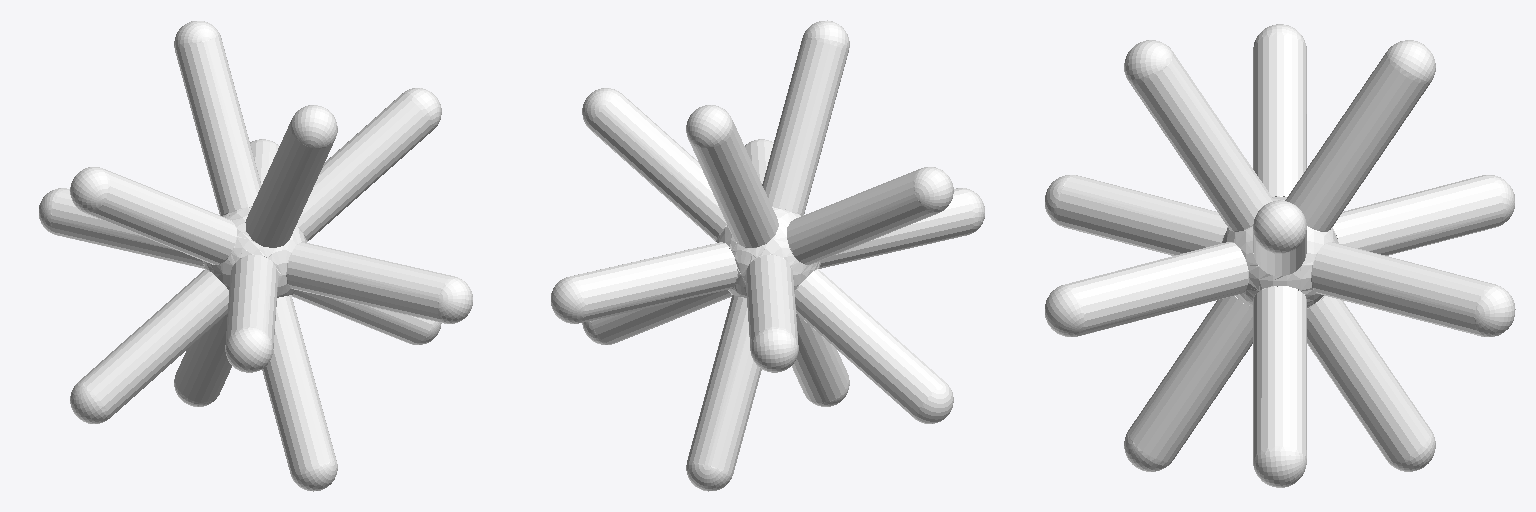
URDF robot description (xin_12zu):
<?xml version="1.0" encoding="utf-8"?>
<!-- This URDF was automatically created by SolidWorks to URDF Exporter! Originally created by [author] ([email redacted]) 
     Commit Version: 1.6.0-1-g15f4949  Build Version: 1.6.7594.29634
     For more information, please see http://wiki.ros.org/sw_urdf_exporter -->
<robot name="xin_12zu">

  <link name="base_link">
    <inertial>
      <origin
        xyz="7.9311E-06 -1.1286E-06 3.1729E-08"
        rpy="0 0 0" />
      <mass
        value="0.037895" />
      <inertia
        ixx="3.9107E-05"
        ixy="-8.067E-10"
        ixz="-3.7841E-11"
        iyy="3.91E-05"
        iyz="1.6043E-11"
        izz="3.9101E-05" />
    </inertial>
    <visual>
      <origin
        xyz="0 0 0"
        rpy="0 0 0" />
      <geometry>
        <mesh
          filename="package://xin_12zu/meshes/base_link.STL" />
      </geometry>
      <material
        name="">
        <color
          rgba="1 1 1 1" />
      </material>
    </visual>
    <collision>
      <origin
        xyz="0 0 0"
        rpy="0 0 0" />
      <geometry>
        <mesh
          filename="package://xin_12zu/meshes/base_link.STL" />
      </geometry>
    </collision>
  </link>
  <link
    name="Empty_Link1">
    <inertial>
      <origin
        xyz="-2.0629E-13 2.3413E-13 0.019791"
        rpy="0 0 0" />
      <mass
        value="0.041471" />
      <inertia
        ixx="3.1606E-05"
        ixy="3.3881E-21"
        ixz="4.9763E-21"
        iyy="3.1606E-05"
        iyz="1.0376E-20"
        izz="2.9764E-06" />
    </inertial>
    <visual>
      <origin
        xyz="0 0 0"
        rpy="0 0 0" />
      <geometry>
        <mesh
          filename="package://xin_12zu/meshes/Empty_Link1.STL" />
      </geometry>
      <material
        name="">
        <color
          rgba="1 1 1 1" />
      </material>
    </visual>
    <collision>
      <origin
        xyz="0 0 0"
        rpy="0 0 0" />
      <geometry>
        <mesh
          filename="package://xin_12zu/meshes/Empty_Link1.STL" />
      </geometry>
    </collision>
  </link>
  <joint
    name="joint1"
    type="prismatic">
    <origin
      xyz="-0.026699 -0.043198 0"
      rpy="-1.5708 -0.72228 2.588" />
    <parent
      link="base_link" />
    <child
      link="Empty_Link1" />
    <axis
      xyz="0 0 1" />
    <limit
      lower="0"
      upper="0.12"
      effort="0"
      velocity="0" />
    <dynamics
      damping="0.1"
      friction="1" />
  </joint>
  <link
    name="Empty_Link2">
    <inertial>
      <origin
        xyz="-5.2874E-14 -2.6096E-14 0.060978"
        rpy="0 0 0" />
      <mass
        value="0.041471" />
      <inertia
        ixx="3.1606E-05"
        ixy="2.3293E-21"
        ixz="-1.2705E-21"
        iyy="3.1606E-05"
        iyz="-1.4823E-21"
        izz="2.9764E-06" />
    </inertial>
    <visual>
      <origin
        xyz="0 0 0"
        rpy="0 0 0" />
      <geometry>
        <mesh
          filename="package://xin_12zu/meshes/Empty_Link2.STL" />
      </geometry>
      <material
        name="">
        <color
          rgba="1 1 1 1" />
      </material>
    </visual>
    <collision>
      <origin
        xyz="0 0 0"
        rpy="0 0 0" />
      <geometry>
        <mesh
          filename="package://xin_12zu/meshes/Empty_Link2.STL" />
      </geometry>
    </collision>
  </link>
  <joint
    name="joint2"
    type="prismatic">
    <origin
      xyz="0.0050449 -0.0081627 0"
      rpy="1.5708 -1.1121 0.55358" />
    <parent
      link="base_link" />
    <child
      link="Empty_Link2" />
    <axis
      xyz="0 0 1" />
    <limit
      lower="0"
      upper="0.12"
      effort="0"
      velocity="0" />
    <dynamics
      damping="0.1"
      friction="1" />
  </joint>
  <link
    name="Empty_Link3">
    <inertial>
      <origin
        xyz="5.7058E-14 3.0676E-13 0.019791"
        rpy="0 0 0" />
      <mass
        value="0.041471" />
      <inertia
        ixx="3.1606E-05"
        ixy="-1.2705E-21"
        ixz="1.2266E-22"
        iyy="3.1606E-05"
        iyz="7.9359E-21"
        izz="2.9764E-06" />
    </inertial>
    <visual>
      <origin
        xyz="0 0 0"
        rpy="0 0 0" />
      <geometry>
        <mesh
          filename="package://xin_12zu/meshes/Empty_Link3.STL" />
      </geometry>
      <material
        name="">
        <color
          rgba="1 1 1 1" />
      </material>
    </visual>
    <collision>
      <origin
        xyz="0 0 0"
        rpy="0 0 0" />
      <geometry>
        <mesh
          filename="package://xin_12zu/meshes/Empty_Link3.STL" />
      </geometry>
    </collision>
  </link>
  <joint
    name="joint3"
    type="prismatic">
    <origin
      xyz="0.043198 0 -0.026699"
      rpy="-2.854 -0.99051 -0.34001" />
    <parent
      link="base_link" />
    <child
      link="Empty_Link3" />
    <axis
      xyz="0 0 1" />
    <limit
      lower="0"
      upper="0.12"
      effort="0"
      velocity="0" />
    <dynamics
      damping="0.1"
      friction="1" />
  </joint>
  <link
    name="Empty_Link4">
    <inertial>
      <origin
        xyz="-3.0234E-13 -7.715E-14 0.019791"
        rpy="0 0 0" />
      <mass
        value="0.041471" />
      <inertia
        ixx="3.1606E-05"
        ixy="6.3527E-22"
        ixz="-7.1204E-21"
        iyy="3.1606E-05"
        iyz="-6.0351E-21"
        izz="2.9764E-06" />
    </inertial>
    <visual>
      <origin
        xyz="0 0 0"
        rpy="0 0 0" />
      <geometry>
        <mesh
          filename="package://xin_12zu/meshes/Empty_Link4.STL" />
      </geometry>
      <material
        name="">
        <color
          rgba="1 1 1 1" />
      </material>
    </visual>
    <collision>
      <origin
        xyz="0 0 0"
        rpy="0 0 0" />
      <geometry>
        <mesh
          filename="package://xin_12zu/meshes/Empty_Link4.STL" />
      </geometry>
    </collision>
  </link>
  <joint
    name="joint4"
    type="prismatic">
    <origin
      xyz="0.026699 0.043198 0"
      rpy="1.5708 -1.3209 2.588" />
    <parent
      link="base_link" />
    <child
      link="Empty_Link4" />
    <axis
      xyz="0 0 1" />
    <limit
      lower="0"
      upper="0.12"
      effort="0"
      velocity="0" />
    <dynamics
      damping="0.1"
      friction="1" />
  </joint>
  <link
    name="Empty_Link5">
    <inertial>
      <origin
        xyz="7.4812E-14 -7.3908E-15 0.058338"
        rpy="0 0 0" />
      <mass
        value="0.041471" />
      <inertia
        ixx="3.1606E-05"
        ixy="8.9997E-22"
        ixz="-3.5734E-21"
        iyy="3.1606E-05"
        iyz="-9.5291E-22"
        izz="2.9764E-06" />
    </inertial>
    <visual>
      <origin
        xyz="0 0 0"
        rpy="0 0 0" />
      <geometry>
        <mesh
          filename="package://xin_12zu/meshes/Empty_Link5.STL" />
      </geometry>
      <material
        name="">
        <color
          rgba="1 1 1 1" />
      </material>
    </visual>
    <collision>
      <origin
        xyz="0 0 0"
        rpy="0 0 0" />
      <geometry>
        <mesh
          filename="package://xin_12zu/meshes/Empty_Link5.STL" />
      </geometry>
    </collision>
  </link>
  <joint
    name="joint5"
    type="prismatic">
    <origin
      xyz="-0.0064325 0.010408 0"
      rpy="1.5708 1.4723 -2.588" />
    <parent
      link="base_link" />
    <child
      link="Empty_Link5" />
    <axis
      xyz="0 0 1" />
    <limit
      lower="0"
      upper="0.12"
      effort="0"
      velocity="0" />
    <dynamics
      damping="0.1"
      friction="1" />
  </joint>
  <link
    name="Empty_Link6">
    <inertial>
      <origin
        xyz="-3.8414E-14 3.0963E-13 0.019791"
        rpy="0 0 0" />
      <mass
        value="0.041471" />
      <inertia
        ixx="3.1606E-05"
        ixy="4.2352E-22"
        ixz="-3.2942E-21"
        iyy="3.1606E-05"
        iyz="-8.0948E-21"
        izz="2.9764E-06" />
    </inertial>
    <visual>
      <origin
        xyz="0 0 0"
        rpy="0 0 0" />
      <geometry>
        <mesh
          filename="package://xin_12zu/meshes/Empty_Link6.STL" />
      </geometry>
      <material
        name="">
        <color
          rgba="1 1 1 1" />
      </material>
    </visual>
    <collision>
      <origin
        xyz="0 0 0"
        rpy="0 0 0" />
      <geometry>
        <mesh
          filename="package://xin_12zu/meshes/Empty_Link6.STL" />
      </geometry>
    </collision>
  </link>
  <joint
    name="joint6"
    type="prismatic">
    <origin
      xyz="-0.043198 0 0.026699"
      rpy="-0.19664 1.005 2.9098" />
    <parent
      link="base_link" />
    <child
      link="Empty_Link6" />
    <axis
      xyz="0 0 1" />
    <limit
      lower="0"
      upper="0.12"
      effort="0"
      velocity="1" />
    <dynamics
      damping="0.1"
      friction="1" />
  </joint>
  <link
    name="Empty_Link7">
    <inertial>
      <origin
        xyz="-1.3878E-17 -1.5266E-16 0.070573"
        rpy="0 0 0" />
      <mass
        value="0.041471" />
      <inertia
        ixx="3.1606E-05"
        ixy="8.4703E-22"
        ixz="4.2352E-22"
        iyy="3.1606E-05"
        iyz="4.6587E-21"
        izz="2.9764E-06" />
    </inertial>
    <visual>
      <origin
        xyz="0 0 0"
        rpy="0 0 0" />
      <geometry>
        <mesh
          filename="package://xin_12zu/meshes/Empty_Link7.STL" />
      </geometry>
      <material
        name="">
        <color
          rgba="1 1 1 1" />
      </material>
    </visual>
    <collision>
      <origin
        xyz="0 0 0"
        rpy="0 0 0" />
      <geometry>
        <mesh
          filename="package://xin_12zu/meshes/Empty_Link7.STL" />
      </geometry>
    </collision>
  </link>
  <joint
    name="joint7"
    type="prismatic">
    <origin
      xyz="0 0 0"
      rpy="0.46754 0.3081 -0.54089" />
    <parent
      link="base_link" />
    <child
      link="Empty_Link7" />
    <axis
      xyz="0 0 1" />
    <limit
      lower="0"
      upper="0.12"
      effort="0"
      velocity="0" />
    <dynamics
      damping="0.1"
      friction="1" />
  </joint>
  <link
    name="Empty_Link8">
    <inertial>
      <origin
        xyz="-3.3412E-14 -4.3414E-14 0.061654"
        rpy="0 0 0" />
      <mass
        value="0.041471" />
      <inertia
        ixx="3.1606E-05"
        ixy="1.6941E-21"
        ixz="-2.925E-21"
        iyy="3.1606E-05"
        iyz="5.6059E-21"
        izz="2.9764E-06" />
    </inertial>
    <visual>
      <origin
        xyz="0 0 0"
        rpy="0 0 0" />
      <geometry>
        <mesh
          filename="package://xin_12zu/meshes/Empty_Link8.STL" />
      </geometry>
      <material
        name="">
        <color
          rgba="1 1 1 1" />
      </material>
    </visual>
    <collision>
      <origin
        xyz="0 0 0"
        rpy="0 0 0" />
      <geometry>
        <mesh
          filename="package://xin_12zu/meshes/Empty_Link8.STL" />
      </geometry>
    </collision>
  </link>
  <joint
    name="joint8"
    type="prismatic">
    <origin
      xyz="0.0075874 0 0.0046894"
      rpy="0.77883 0.7397 0.97159" />
    <parent
      link="base_link" />
    <child
      link="Empty_Link8" />
    <axis
      xyz="0 0 1" />
    <limit
      lower="0"
      upper="0.12"
      effort="0"
      velocity="0" />
    <dynamics
      damping="0.1"
      friction="1" />
  </joint>
  <link
    name="Empty_Link9">
    <inertial>
      <origin
        xyz="-1.7347E-18 -6.9389E-18 0.019791"
        rpy="0 0 0" />
      <mass
        value="0.041471" />
      <inertia
        ixx="3.1606E-05"
        ixy="6.3527E-22"
        ixz="6.2866E-21"
        iyy="3.1606E-05"
        iyz="8.1527E-21"
        izz="2.9764E-06" />
    </inertial>
    <visual>
      <origin
        xyz="0 0 0"
        rpy="0 0 0" />
      <geometry>
        <mesh
          filename="package://xin_12zu/meshes/Empty_Link9.STL" />
      </geometry>
      <material
        name="">
        <color
          rgba="1 1 1 1" />
      </material>
    </visual>
    <collision>
      <origin
        xyz="0 0 0"
        rpy="0 0 0" />
      <geometry>
        <mesh
          filename="package://xin_12zu/meshes/Empty_Link9.STL" />
      </geometry>
    </collision>
  </link>
  <joint
    name="joint9"
    type="prismatic">
    <origin
      xyz="0 0.026699 0.043198"
      rpy="0.55134 0.052581 3.0563" />
    <parent
      link="base_link" />
    <child
      link="Empty_Link9" />
    <axis
      xyz="0 0 1" />
    <limit
      lower="0"
      upper="0.12"
      effort="0"
      velocity="0" />
    <dynamics
      damping="0.1"
      friction="1" />
  </joint>
  <link
    name="Empty_Link10">
    <inertial>
      <origin
        xyz="5.0307E-17 2.7756E-17 0.019791"
        rpy="0 0 0" />
      <mass
        value="0.041471" />
      <inertia
        ixx="3.1606E-05"
        ixy="-5.0822E-21"
        ixz="1.1753E-20"
        iyy="3.1606E-05"
        iyz="-1.1329E-20"
        izz="2.9764E-06" />
    </inertial>
    <visual>
      <origin
        xyz="0 0 0"
        rpy="0 0 0" />
      <geometry>
        <mesh
          filename="package://xin_12zu/meshes/Empty_Link10.STL" />
      </geometry>
      <material
        name="">
        <color
          rgba="1 1 1 1" />
      </material>
    </visual>
    <collision>
      <origin
        xyz="0 0 0"
        rpy="0 0 0" />
      <geometry>
        <mesh
          filename="package://xin_12zu/meshes/Empty_Link10.STL" />
      </geometry>
    </collision>
  </link>
  <joint
    name="joint10"
    type="prismatic">
    <origin
      xyz="0 -0.026699 -0.043198"
      rpy="2.6411 0.24739 0.42097" />
    <parent
      link="base_link" />
    <child
      link="Empty_Link10" />
    <axis
      xyz="0 0 1" />
    <limit
      lower="0"
      upper="0.12"
      effort="0"
      velocity="0" />
    <dynamics
      damping="0.1"
      friction="1" />
  </joint>
  <link
    name="Empty_Link11">
    <inertial>
      <origin
        xyz="5.6379E-18 -4.3368E-18 0.060376"
        rpy="0 0 0" />
      <mass
        value="0.041471" />
      <inertia
        ixx="3.1606E-05"
        ixy="-5.0822E-21"
        ixz="-1.2176E-21"
        iyy="3.1606E-05"
        iyz="3.7058E-21"
        izz="2.9764E-06" />
    </inertial>
    <visual>
      <origin
        xyz="0 0 0"
        rpy="0 0 0" />
      <geometry>
        <mesh
          filename="package://xin_12zu/meshes/Empty_Link11.STL" />
      </geometry>
      <material
        name="">
        <color
          rgba="1 1 1 1" />
      </material>
    </visual>
    <collision>
      <origin
        xyz="0 0 0"
        rpy="0 0 0" />
      <geometry>
        <mesh
          filename="package://xin_12zu/meshes/Empty_Link11.STL" />
      </geometry>
    </collision>
  </link>
  <joint
    name="joint11"
    type="prismatic">
    <origin
      xyz="0 0.0053613 -0.0086747"
      rpy="-2.6159 -0.18215 0.30262" />
    <parent
      link="base_link" />
    <child
      link="Empty_Link11" />
    <axis
      xyz="0 0 1" />
    <limit
      lower="0"
      upper="0.12"
      effort="0"
      velocity="0" />
    <dynamics
      damping="0.1"
      friction="1" />
  </joint>
  <link
    name="Empty_Link12">
    <inertial>
      <origin
        xyz="7.0042E-14 -1.218E-14 0.059016"
        rpy="0 0 0" />
      <mass
        value="0.041471" />
      <inertia
        ixx="3.1606E-05"
        ixy="3.3881E-21"
        ixz="8.2727E-22"
        iyy="3.1606E-05"
        iyz="-1.3533E-21"
        izz="2.9764E-06" />
    </inertial>
    <visual>
      <origin
        xyz="0 0 0"
        rpy="0 0 0" />
      <geometry>
        <mesh
          filename="package://xin_12zu/meshes/Empty_Link12.STL" />
      </geometry>
      <material
        name="">
        <color
          rgba="1 1 1 1" />
      </material>
    </visual>
    <collision>
      <origin
        xyz="0 0 0"
        rpy="0 0 0" />
      <geometry>
        <mesh
          filename="package://xin_12zu/meshes/Empty_Link12.STL" />
      </geometry>
    </collision>
  </link>
  <joint
    name="joint12"
    type="prismatic">
    <origin
      xyz="-0.0098312 0 -0.0060761"
      rpy="2.1311 -0.14637 -1.662" />
    <parent
      link="base_link" />
    <child
      link="Empty_Link12" />
    <axis
      xyz="0 0 1" />
    <limit
      lower="0"
      upper="0.12"
      effort="0"
      velocity="0" />
    <dynamics
      damping="0.1"
      friction="1" />
  </joint>
</robot>

--- Facts derived from the render (not from the file) ---
Views: 3 orthographic renders of the robot side by side, from view 1: azimuth 30°, elevation 25°; view 2: azimuth 150°, elevation 25°; view 3: azimuth 270°, elevation 25°.
Robot: xin_12zu — 13 links, 12 joints (12 prismatic); root link base_link; default pose: all joints at 0.
Visible links, largest first — view 1: Empty_Link12, Empty_Link9, Empty_Link2, Empty_Link6, Empty_Link8, Empty_Link10, Empty_Link7, Empty_Link1, Empty_Link5, Empty_Link11, Empty_Link3, base_link (+1 smaller); view 2: Empty_Link12, Empty_Link7, Empty_Link4, Empty_Link6, Empty_Link8, Empty_Link11, Empty_Link9, Empty_Link5, Empty_Link1, Empty_Link10, Empty_Link3, base_link (+1 smaller); view 3: Empty_Link9, Empty_Link7, Empty_Link4, Empty_Link2, Empty_Link3, Empty_Link10, Empty_Link11, Empty_Link1, Empty_Link5, Empty_Link6, Empty_Link8, base_link.
Boxes of the visible links, bbox=[...] form: Empty_Link12: bbox=[70, 270, 228, 423]; Empty_Link9: bbox=[174, 21, 261, 215]; Empty_Link2: bbox=[287, 242, 472, 323]; Empty_Link6: bbox=[70, 167, 236, 264]; Empty_Link8: bbox=[297, 88, 441, 241]; Empty_Link10: bbox=[262, 296, 337, 491]; Empty_Link7: bbox=[246, 105, 337, 247]; Empty_Link1: bbox=[225, 255, 277, 372]; Empty_Link5: bbox=[39, 188, 204, 268]; Empty_Link11: bbox=[174, 314, 231, 406]; Empty_Link3: bbox=[292, 290, 441, 344]; base_link: bbox=[203, 206, 307, 298]; Empty_Link12: bbox=[795, 270, 953, 423]; Empty_Link7: bbox=[762, 20, 849, 215]; Empty_Link4: bbox=[551, 242, 736, 323]; Empty_Link6: bbox=[787, 167, 953, 264]; Empty_Link8: bbox=[582, 88, 726, 241]; Empty_Link11: bbox=[686, 296, 761, 491]; Empty_Link9: bbox=[686, 105, 778, 247]; Empty_Link5: bbox=[745, 255, 798, 372]; Empty_Link1: bbox=[819, 188, 984, 268]; Empty_Link10: bbox=[792, 314, 849, 406]; Empty_Link3: bbox=[582, 290, 731, 344]; base_link: bbox=[716, 206, 820, 298]; Empty_Link9: bbox=[1286, 40, 1435, 231]; Empty_Link7: bbox=[1124, 40, 1273, 231]; Empty_Link4: bbox=[1312, 242, 1515, 336]; Empty_Link2: bbox=[1045, 242, 1247, 336]; Empty_Link3: bbox=[1253, 286, 1306, 487]; Empty_Link10: bbox=[1124, 296, 1252, 471]; Empty_Link11: bbox=[1307, 296, 1435, 471]; Empty_Link1: bbox=[1045, 175, 1227, 255]; Empty_Link5: bbox=[1333, 175, 1514, 255]; Empty_Link6: bbox=[1253, 24, 1306, 196]; Empty_Link8: bbox=[1253, 200, 1306, 275]; base_link: bbox=[1221, 196, 1338, 308].
Bounding box of the posed robot: 0.2093 × 0.2094 × 0.2093 m (x, y, z).
Meshes: 13 distinct files referenced, 13 mesh visuals loaded (13 binary STL).
